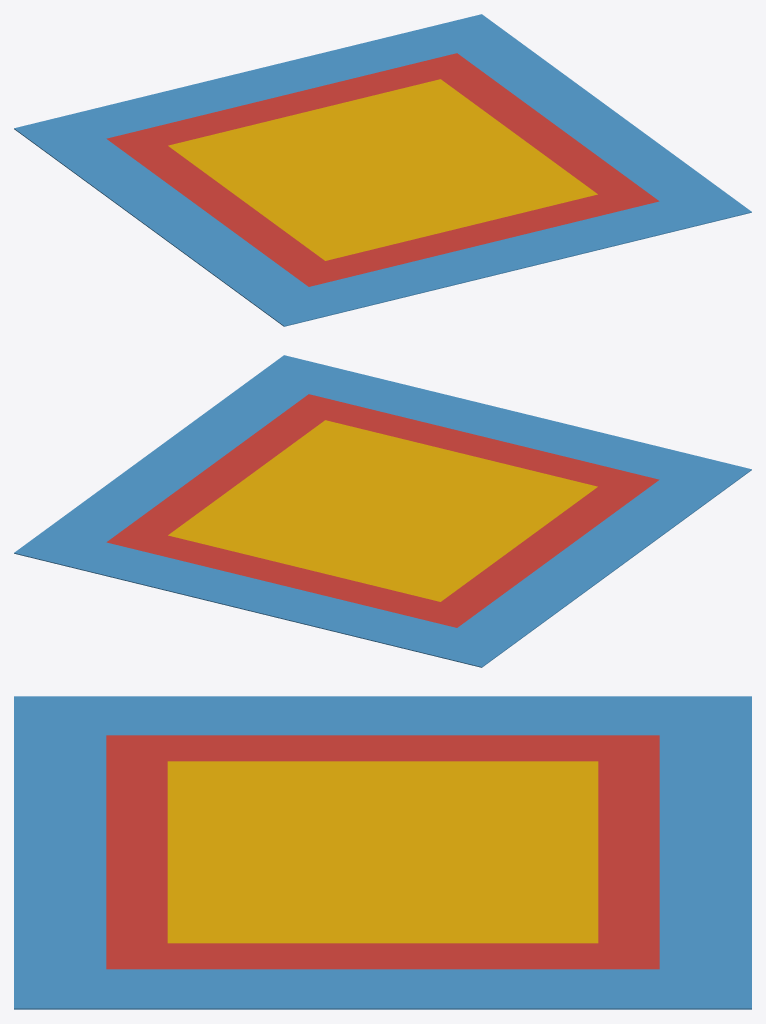
Rendered from Judo Arena.fbx.
3 renders of one model, top to bottom at view 1: azimuth 30°, elevation 25°; view 2: azimuth 150°, elevation 25°; view 3: azimuth 270°, elevation 25°, orthographic. The views are drawn at different scales.
Parts seen in each view (by area): view 1: Judo Arena; view 2: Judo Arena; view 3: Judo Arena.
Part boxes in pixels (box(x1,y1,x2,y2)): Judo Arena: box(14, 14, 751, 326); Judo Arena: box(14, 355, 751, 667); Judo Arena: box(14, 696, 751, 1009).
Bounding box in the file's own units: 2880 × 5 × 2880.
